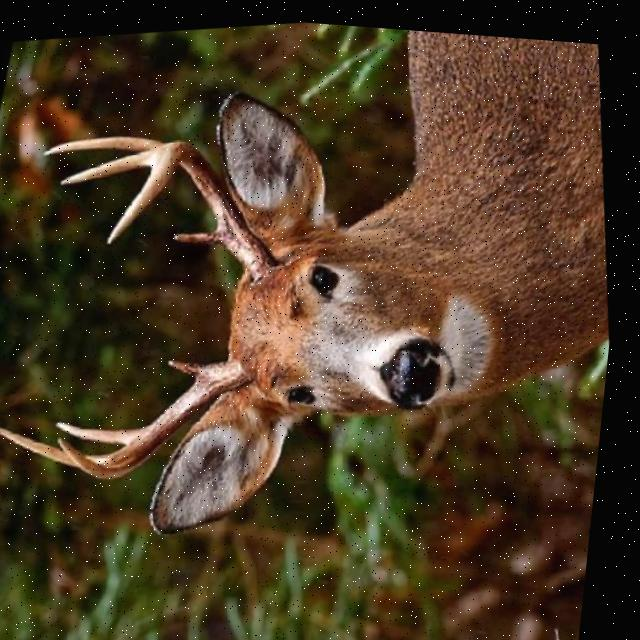L-F: (64, 354, 257, 476)
L-G1: (173, 355, 215, 373)
L-G2: (62, 417, 150, 441)
R-F: (111, 135, 281, 277)
R-G1: (177, 221, 229, 242)
R-G2: (44, 132, 171, 154)
R-G3: (62, 148, 154, 183)
